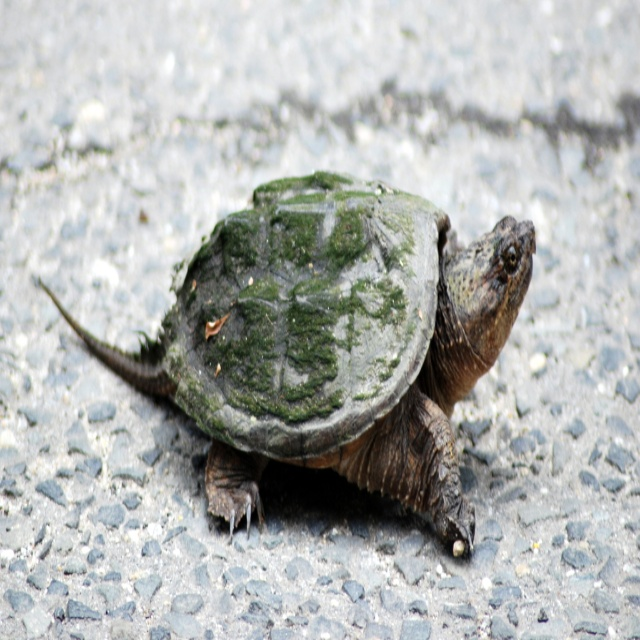Sea turtle: (32, 162, 535, 563)
